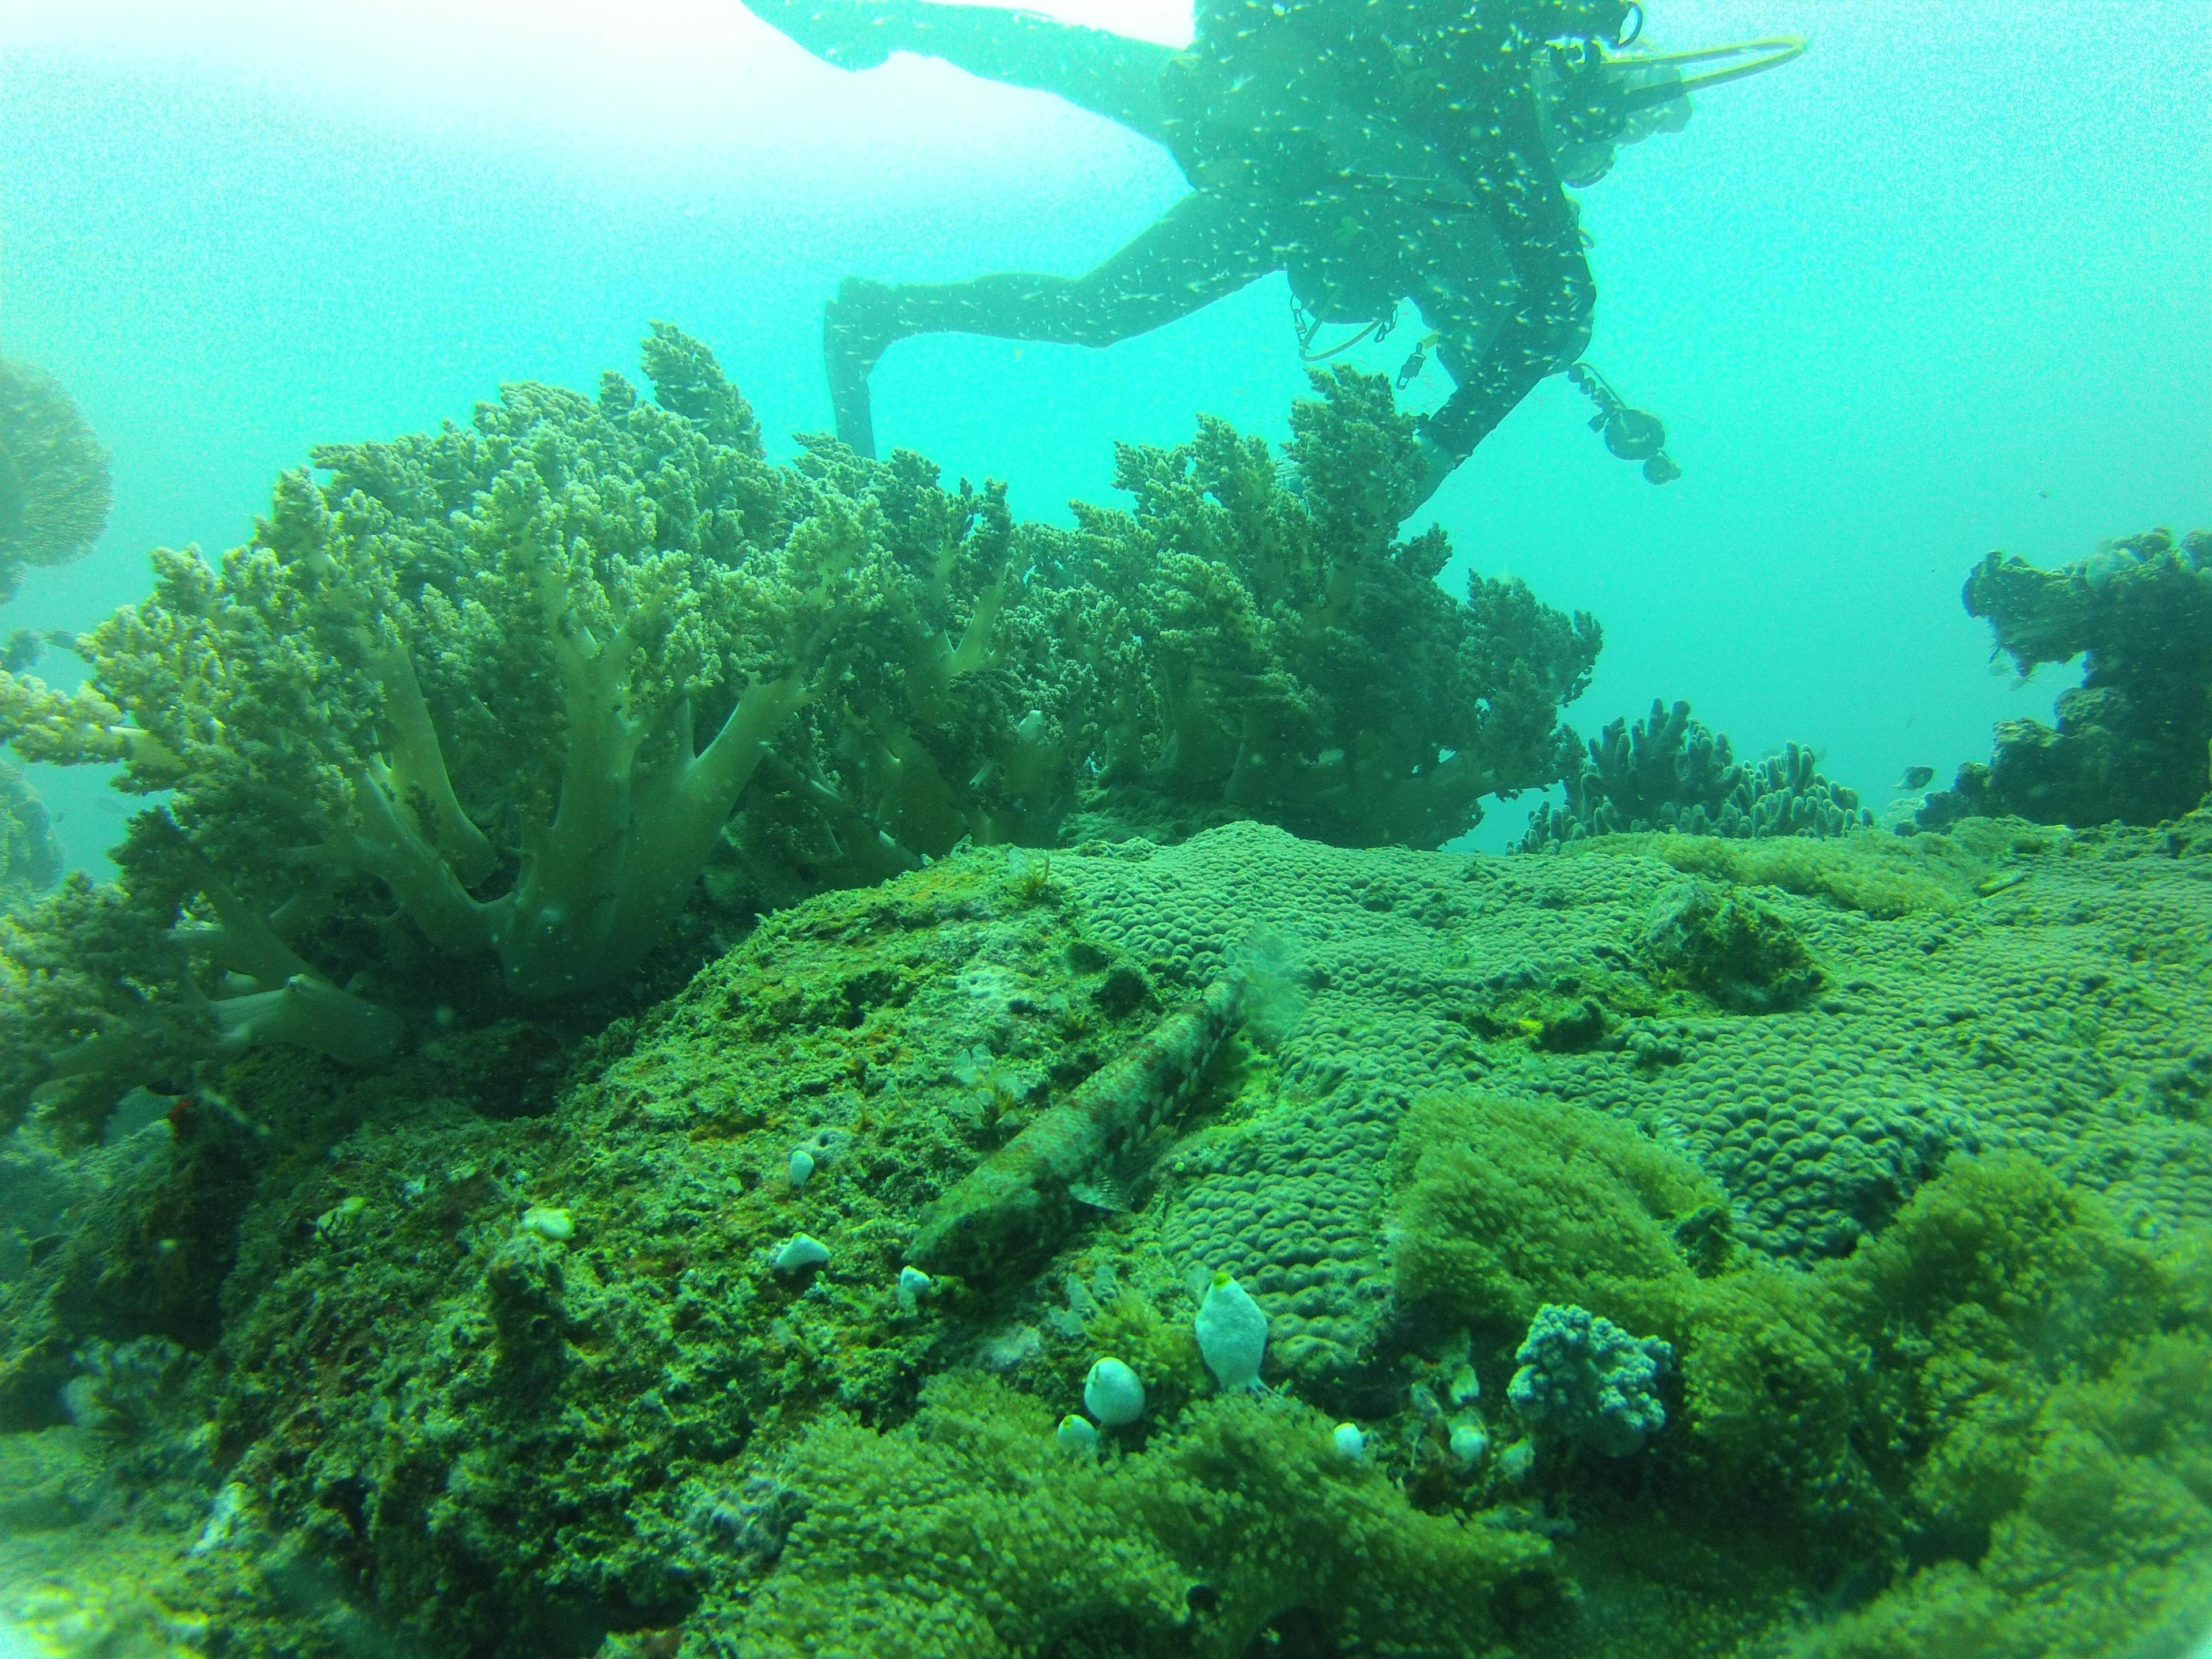Fish: (824, 950, 1313, 1354)
